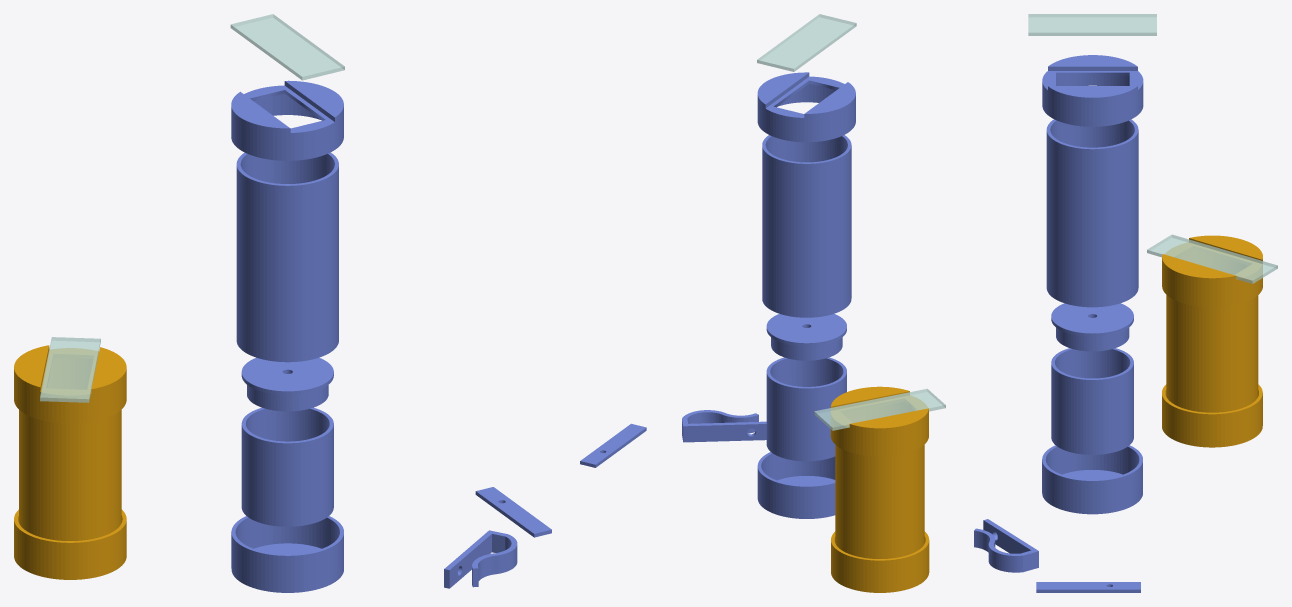
File: Micro-hoek funcionamiento (1).fbx
The picture shows the model from 3 angles, left to right: view 1: azimuth 30°, elevation 25°; view 2: azimuth 150°, elevation 25°; view 3: azimuth 270°, elevation 25°; orthographic projection. The views are drawn at different scales.
Parts seen in each view (by area): view 1: Tronco, Tronco.001, Interno, Superior, Base, Superior.001, Base.001, Tapa interno, Cube.001, Cube.002, Pinche 1, Pinche 2; view 2: Tronco, Tronco.001, Interno, Superior, Superior.001, Base, Base.001, Tapa interno, Cube.001, Cube.002, Pinche 1, Pinche 2; view 3: Tronco, Tronco.001, Interno, Superior, Base, Superior.001, Base.001, Tapa interno, Cube.001, Cube.002, Pinche 1, Pinche 2.
Part boxes in pixels (x1,y1,x2,y2): Tronco: (236,152,338,362); Tronco.001: (19,358,121,540); Interno: (241,407,333,526); Superior: (231,80,343,160); Base: (231,516,343,592); Superior.001: (14,345,126,423); Base.001: (14,509,126,579); Tapa interno: (241,357,333,411); Cube.001: (230,14,344,80); Cube.002: (40,337,100,402); Pinche 1: (444,530,517,588); Pinche 2: (475,487,551,537); Tronco: (762,135,851,317); Tronco.001: (835,402,924,558); Interno: (766,357,846,461); Superior: (757,72,855,142); Superior.001: (830,386,928,456); Base: (757,452,835,518); Base.001: (831,531,929,592); Tapa interno: (766,314,846,360); Cube.001: (757,14,856,71); Cube.002: (814,388,945,430); Pinche 1: (682,410,766,442); Pinche 2: (580,423,646,467); Tronco: (1046,119,1138,307); Tronco.001: (1166,249,1258,412); Interno: (1051,348,1133,454); Superior: (1042,55,1143,126); Base: (1042,445,1142,514); Superior.001: (1162,235,1262,307); Base.001: (1162,384,1262,447); Tapa interno: (1051,303,1133,351); Cube.001: (1028,14,1156,35); Cube.002: (1147,234,1277,283); Pinche 1: (974,519,1038,572); Pinche 2: (1036,582,1140,592).
Size of what is drawn, in the model's own units: 24.6 by 28.21 by 16.54.
